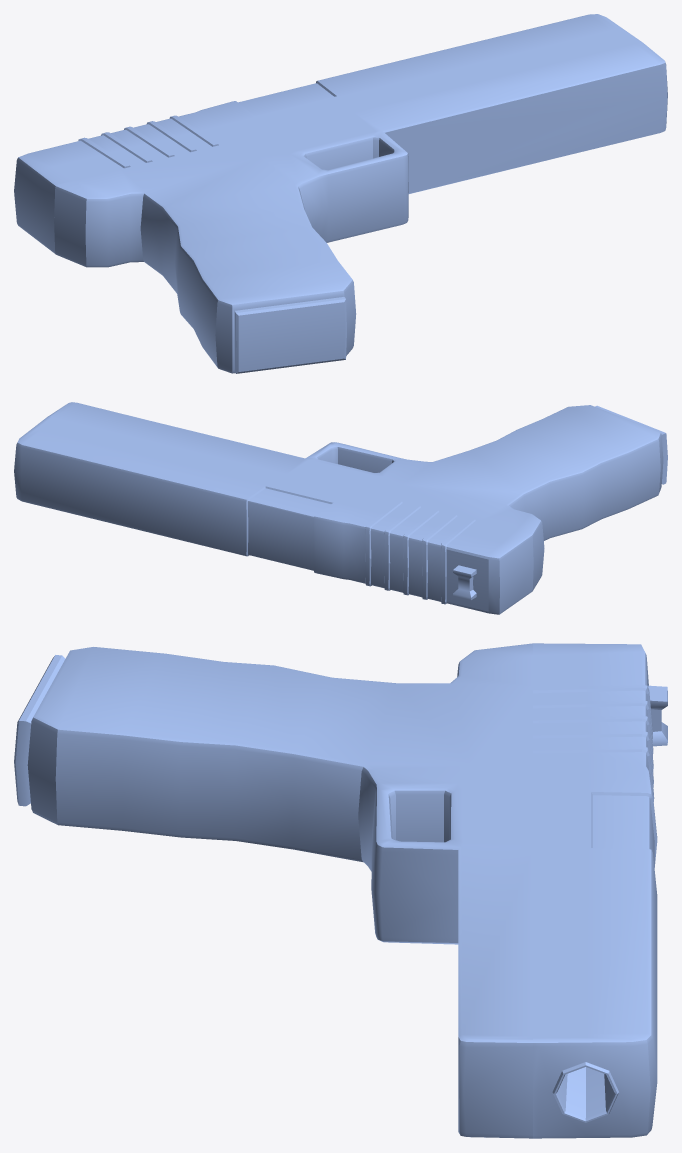
The model's file is Pistola.fbx.
3 renders of one model, top to bottom at view 1: azimuth 30°, elevation 25°; view 2: azimuth 150°, elevation 25°; view 3: azimuth 270°, elevation 25°, orthographic. The views are drawn at different scales.
Parts seen in each view (by area): view 1: Object005; view 2: Object005; view 3: Object005.
Boxes of the visible parts, x1,y1,x2,y2 form: Object005: [14, 14, 667, 373]; Object005: [14, 402, 667, 614]; Object005: [14, 643, 667, 1138].
Bounding box in the file's own units: 180 × 21.28 × 123.
